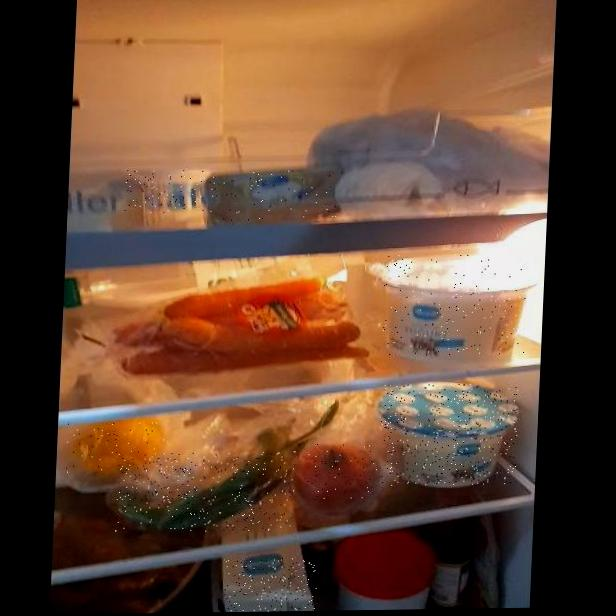butter: (207, 170, 338, 221)
carrot: (122, 286, 356, 362)
green chilies: (114, 451, 296, 534)
lemon: (65, 422, 172, 481)
milk: (224, 558, 318, 612)
tomato: (299, 443, 380, 500)
yoghurt: (380, 252, 530, 356), (378, 383, 520, 486), (123, 169, 206, 216)
